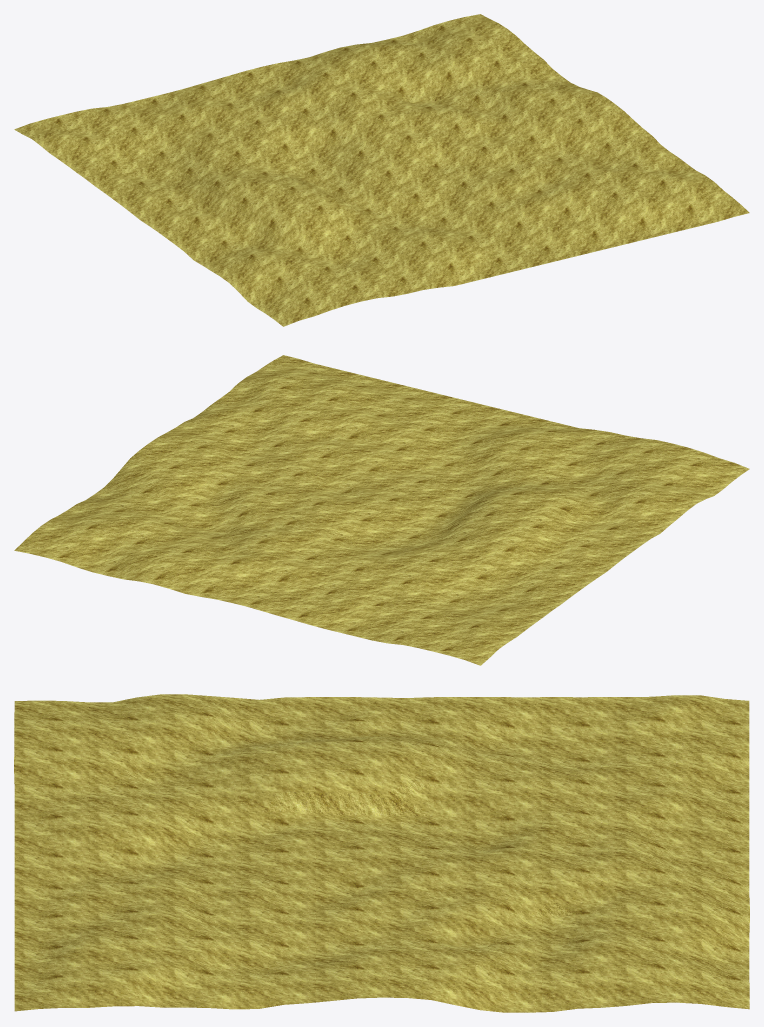
The model's file is ground.fbx.
The picture shows the model from 3 angles, top to bottom: view 1: azimuth 30°, elevation 25°; view 2: azimuth 150°, elevation 25°; view 3: azimuth 270°, elevation 25°; orthographic projection. The views are drawn at different scales.
Parts seen in each view (by area): view 1: pPlane1; view 2: pPlane1; view 3: pPlane1.
Boxes of the visible parts, x1,y1,x2,y2 form: pPlane1: (14, 14, 749, 326); pPlane1: (14, 355, 749, 665); pPlane1: (14, 694, 749, 1012).
Size of the model in its own units: 100 by 3.16 by 100.
